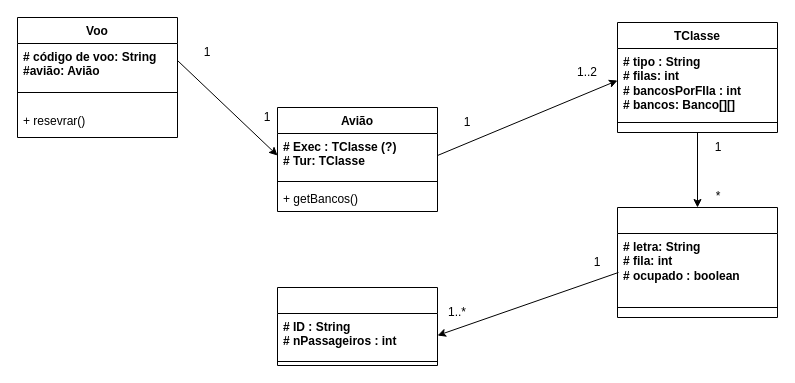
Image size: 795x383. Some labels were removed from this diagram. The box of each missing label's shape, as (x1, y1, x2, y2) in pixels:
Banco: (616, 206, 778, 318)
Reserva: (276, 286, 438, 366)
